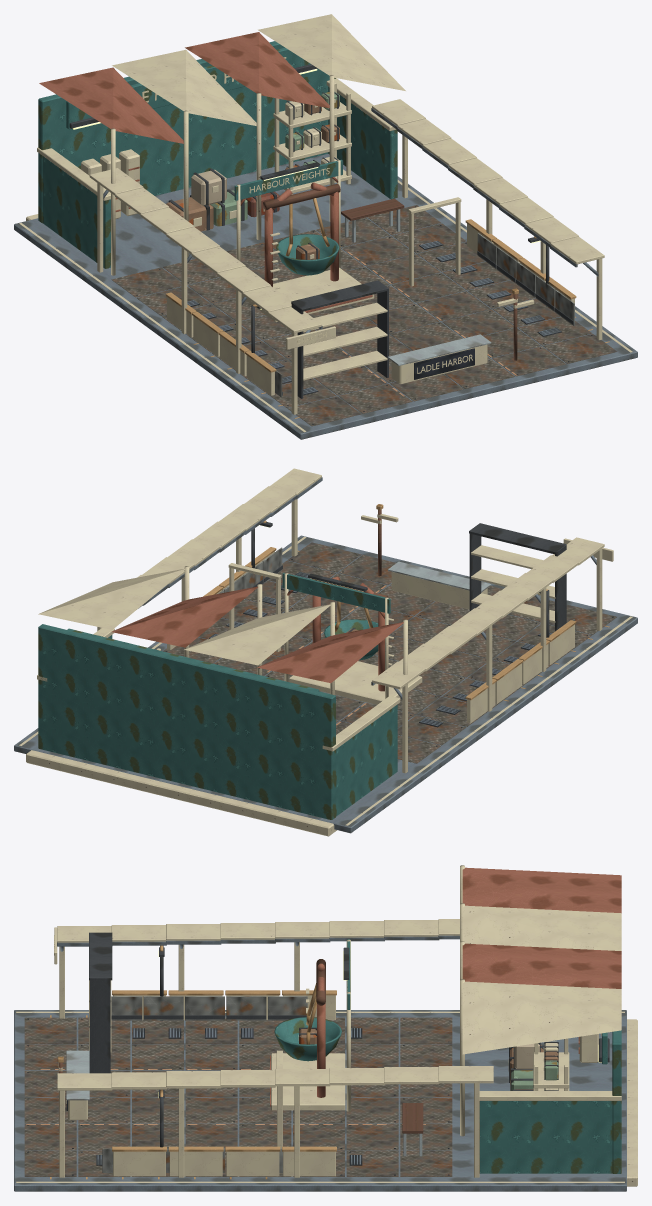
Rendered from sloshwell-depot.glb.
3 renders of one model, top to bottom at view 1: azimuth 30°, elevation 25°; view 2: azimuth 150°, elevation 25°; view 3: azimuth 270°, elevation 25°, orthographic. The views are drawn at different scales.
Visible parts, largest first — view 1: sloshwell-depot; view 2: sloshwell-depot; view 3: sloshwell-depot.
Boxes of the visible parts, bbox=[...] form: sloshwell-depot: bbox=[14, 14, 637, 439]; sloshwell-depot: bbox=[14, 468, 637, 836]; sloshwell-depot: bbox=[14, 865, 637, 1191].
Bounding box in the file's own units: 16.9 × 7.46 × 25.34.
Materials: 19 (17 with a texture image).
